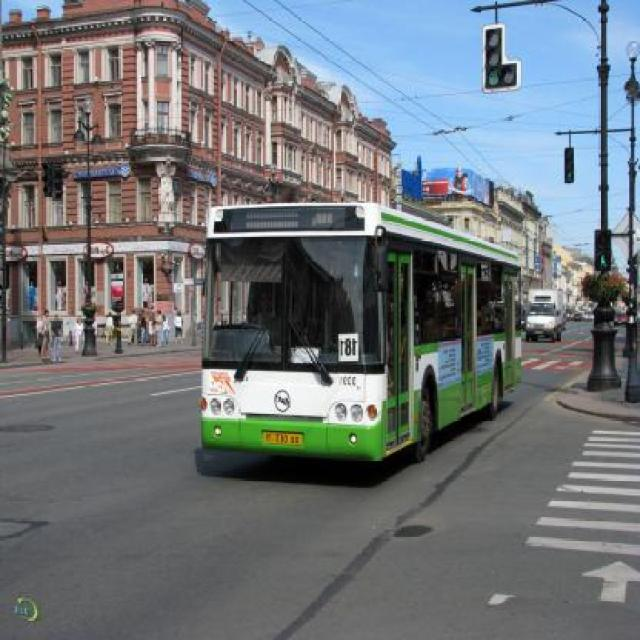bus: (200, 200, 514, 462)
truck: (528, 290, 566, 339)
